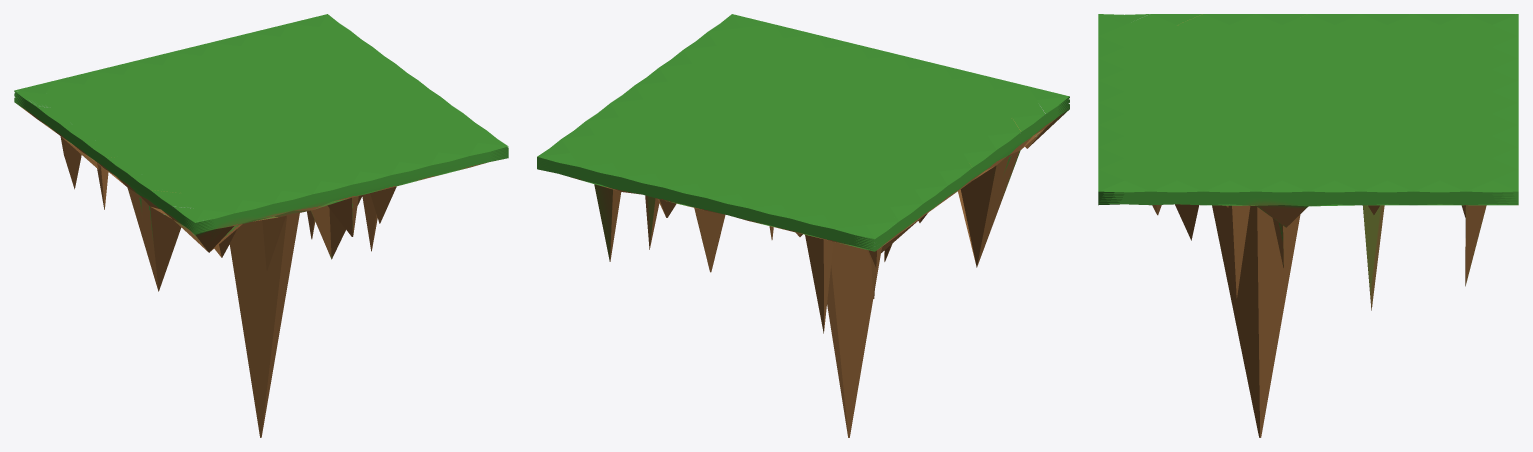
File: Stalactites.fbx
3 views of the same model, side by side, from view 1: azimuth 30°, elevation 25°; view 2: azimuth 150°, elevation 25°; view 3: azimuth 270°, elevation 25° (orthographic). The views are drawn at different scales.
Parts seen in each view (by area): view 1: Cube; view 2: Cube; view 3: Cube.
Part boxes in pixels (left/top/right/bottom): Cube: left=14, top=14, right=508, bottom=437; Cube: left=537, top=14, right=1069, bottom=437; Cube: left=1098, top=14, right=1518, bottom=437.
Size of the model in its own units: 544 by 495 by 544.
